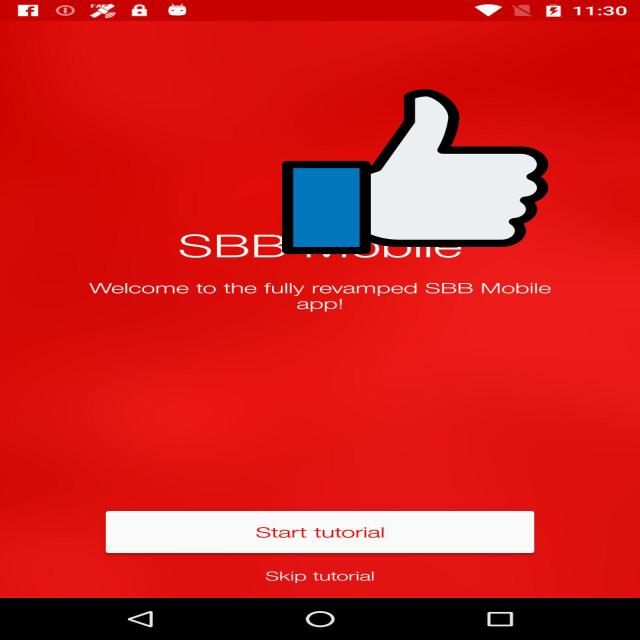privacy zuckering: (282, 85, 548, 258)
